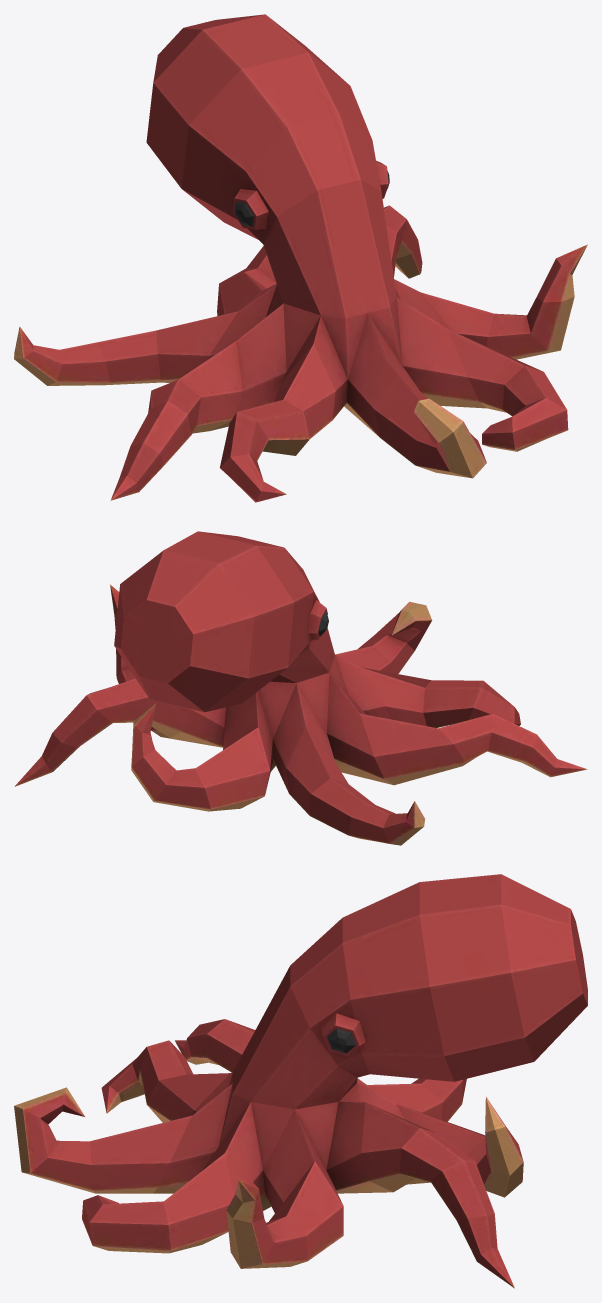
The model's file is octopus.glb.
3 views of the same model, one above another, from view 1: azimuth 30°, elevation 25°; view 2: azimuth 150°, elevation 25°; view 3: azimuth 270°, elevation 25° (orthographic). The views are drawn at different scales.
Visible parts, largest first — view 1: Octopus_mesh; view 2: Octopus_mesh; view 3: Octopus_mesh.
Boxes of the visible parts, x1,y1,x2,y2 form: Octopus_mesh: [14, 14, 587, 502]; Octopus_mesh: [14, 531, 587, 845]; Octopus_mesh: [14, 874, 587, 1288].
Size of the model in its own units: 17.74 by 10.08 by 17.24.
1 material, 1 textured.
